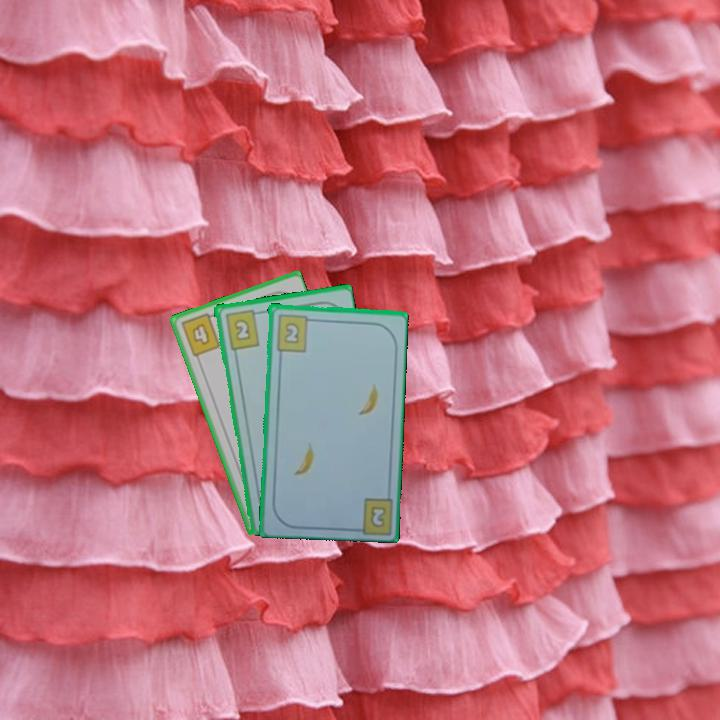2b: (221, 306, 263, 352), (273, 311, 316, 354), (367, 503, 388, 530)
4b: (177, 309, 223, 359)
